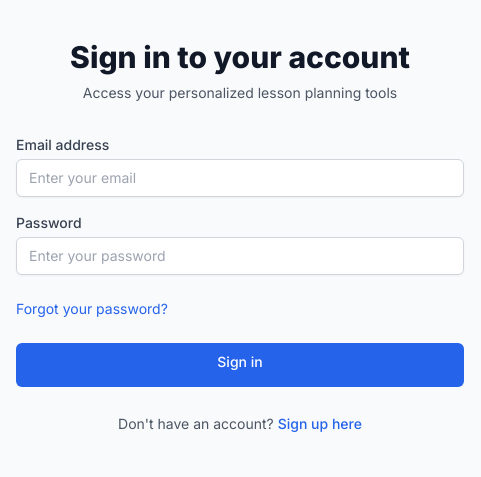
Test: LoginPage › validates email format
The image size is (481, 477).
Type "invalid-email" into the field labelled "Email address".
click(240, 178); type("invalid-email")  # box [16,159,464,197]
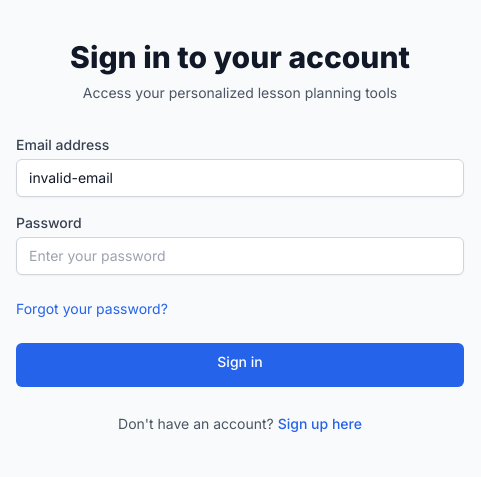
Submit the form named "sign in to your account", box [16,135,464,435]
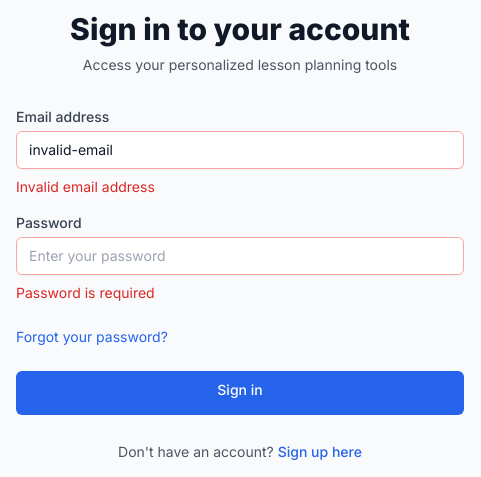
Check: the text "Invalid email address" is shown, box [16,178,155,195]
